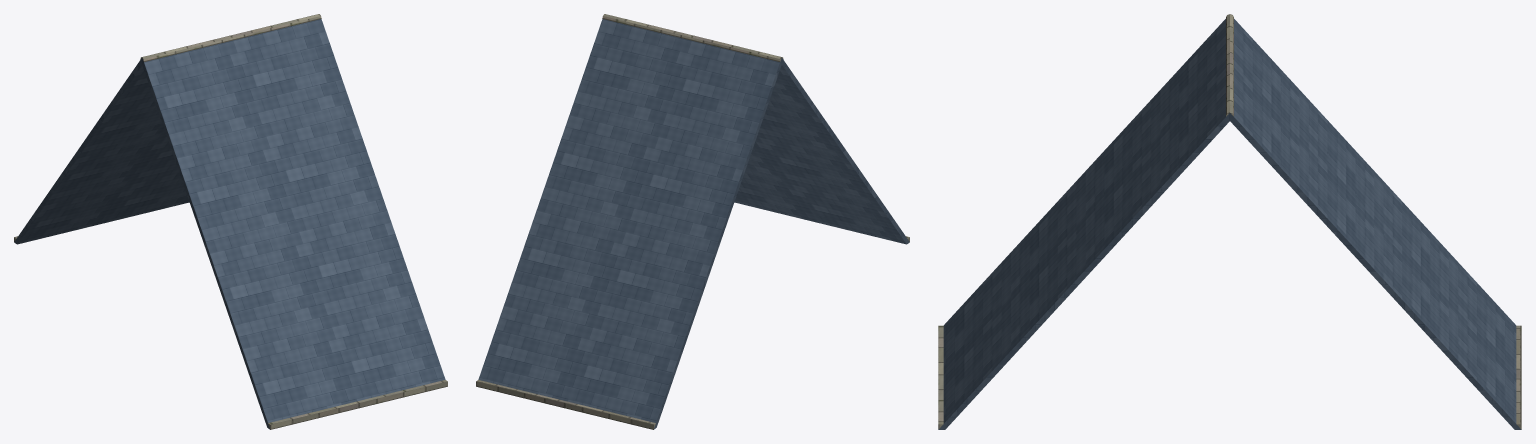
Rendered from Furn_Roof_Gable.fbx.
3 renders of one model, left to right at view 1: azimuth 30°, elevation 25°; view 2: azimuth 150°, elevation 25°; view 3: azimuth 270°, elevation 25°, orthographic. The views are drawn at different scales.
Visible parts, largest first — view 1: Furn_Roof_Gable_Mesh; view 2: Furn_Roof_Gable_Mesh; view 3: Furn_Roof_Gable_Mesh.
Part boxes in pixels (x1,y1,x2,y2): Furn_Roof_Gable_Mesh: (14, 14, 447, 429); Furn_Roof_Gable_Mesh: (476, 14, 909, 429); Furn_Roof_Gable_Mesh: (938, 14, 1521, 429).
Size of the model in its own units: 4 by 6 by 10.
